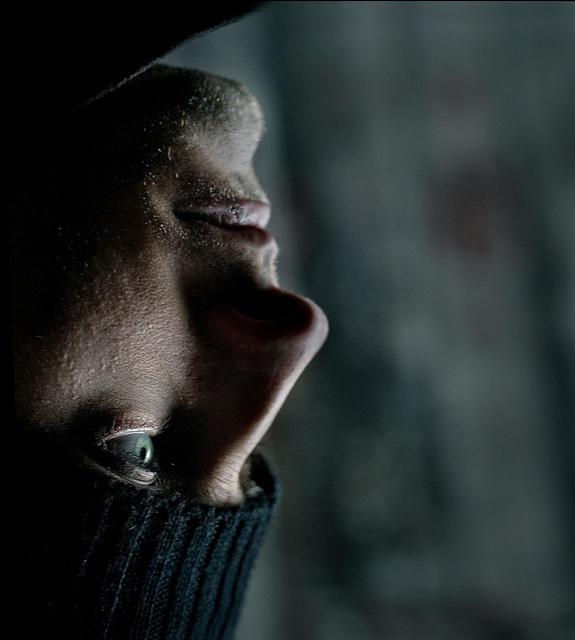Non_Gorille: (0, 0, 357, 639)
